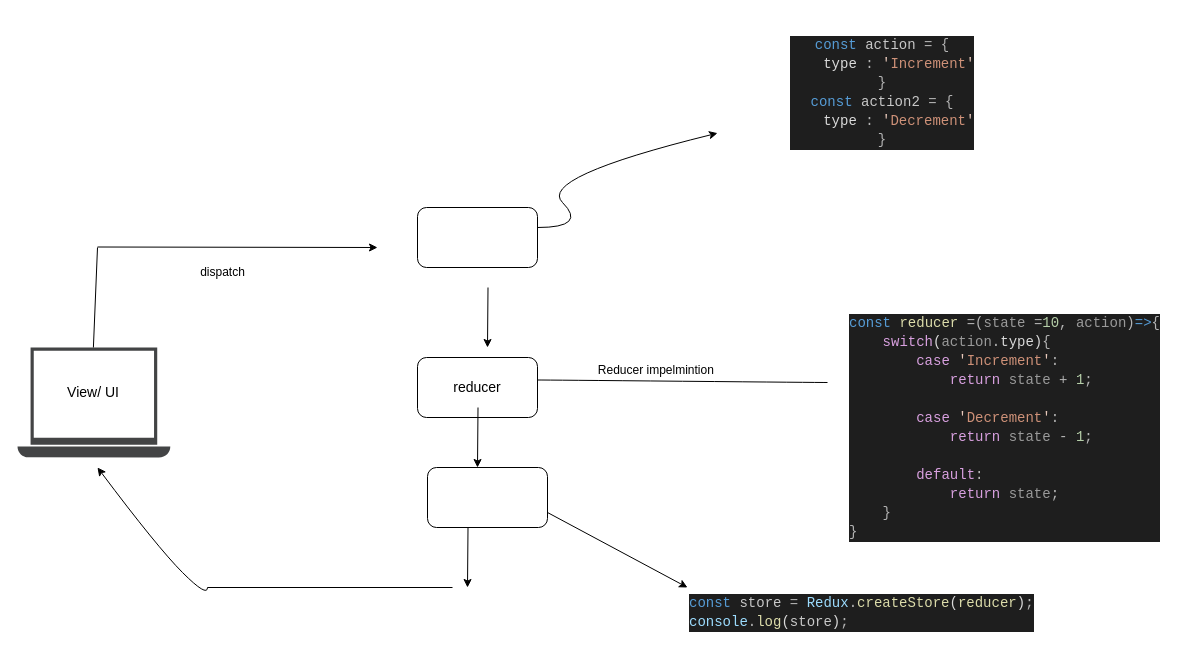
Image size: 1177x664. Some labels were removed from this diagram. Here are the shapes that lost their labels. From the top down, the centre of each, then its label:
At point (477, 237): "action".
At point (487, 497): "store".
